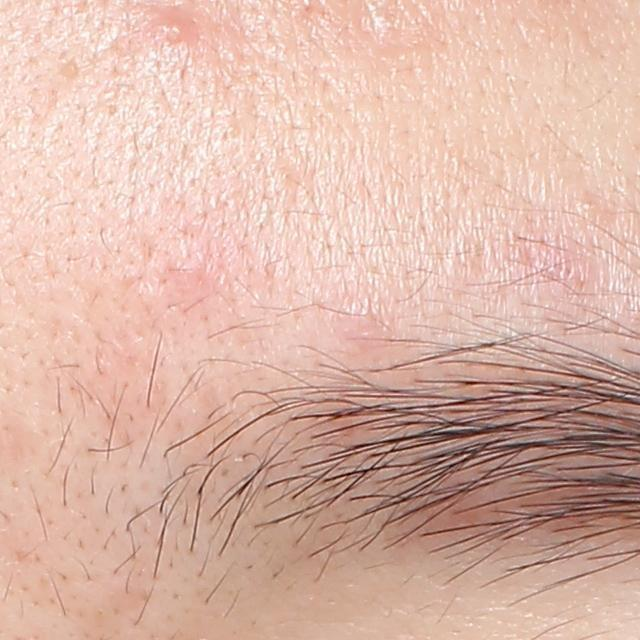papule: (149, 4, 208, 50)
